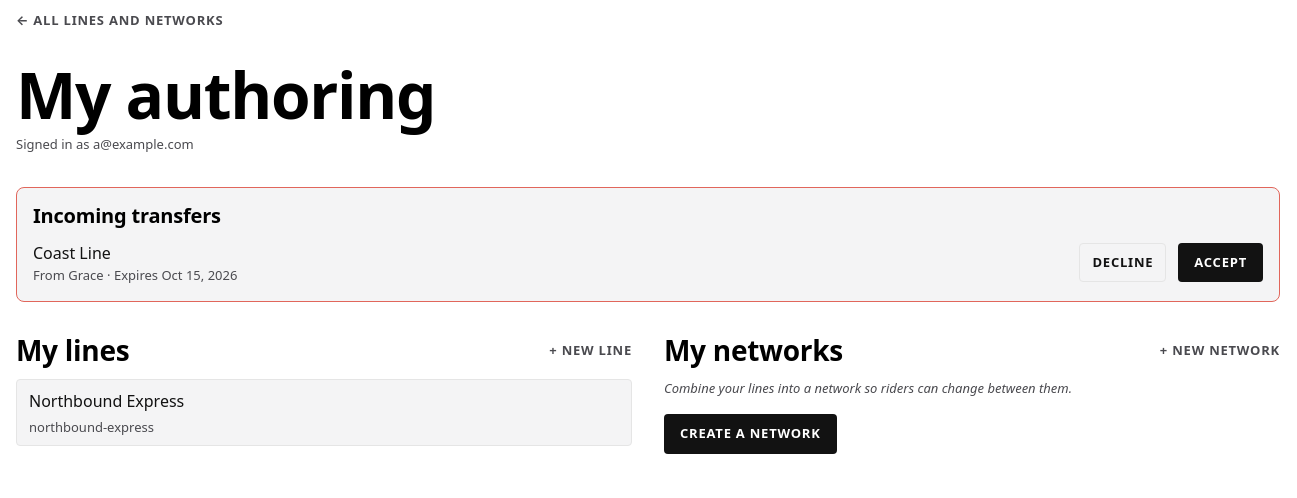
Test case: AuthoringView › transfers › explains the scenario refusal even when it names no networks
The width and height of the screenshot is (1297, 498).
Step 1. Click the button with test id "accept-handover" → (1221,262), box [1178,243,1263,282]
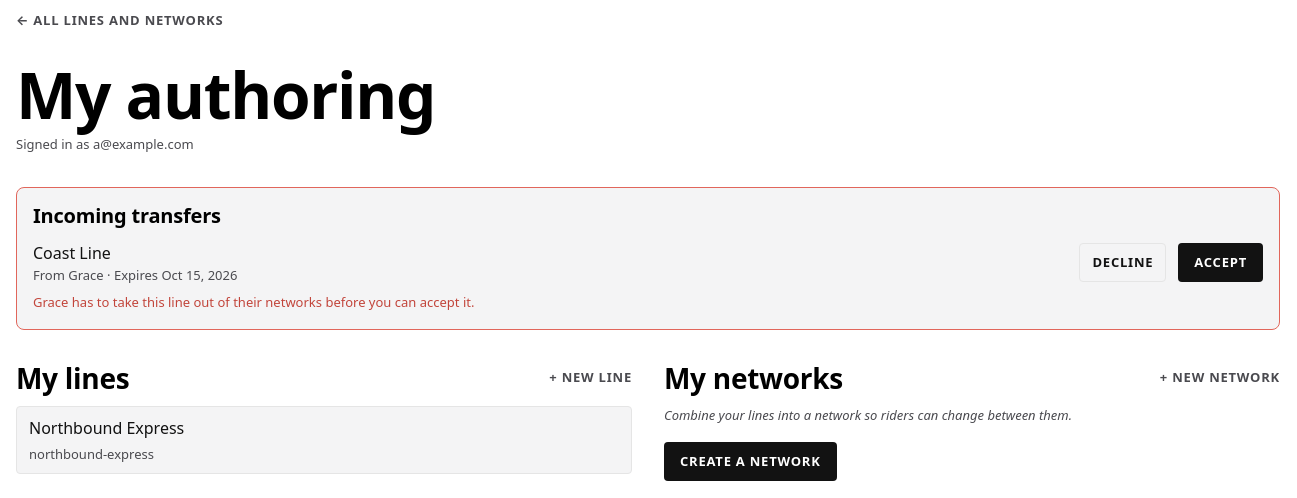
expect the message with test id "handover-refusal" reads "Grace has to take this line out of their networks before you can accept it.": met, box [33,293,474,311]
